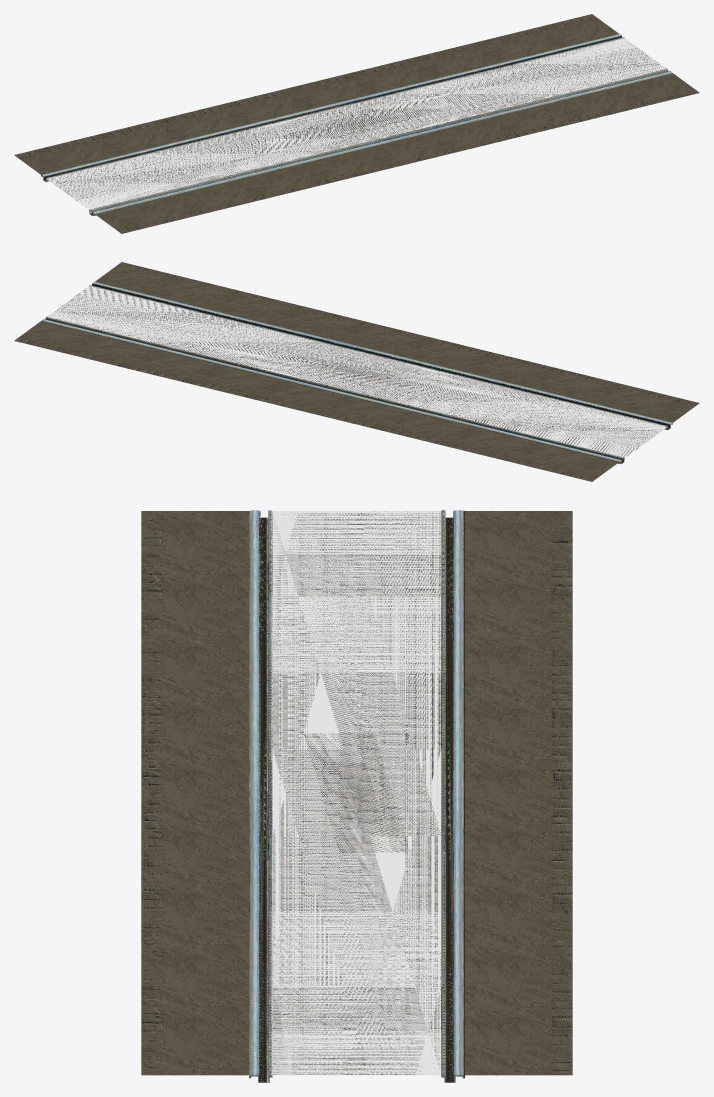
File: RT-Straight.dae
3 renders of one model, top to bottom at view 1: azimuth 30°, elevation 25°; view 2: azimuth 150°, elevation 25°; view 3: azimuth 270°, elevation 25°, orthographic. The views are drawn at different scales.
Visible parts, largest first — view 1: group_0, group_1 (×2), group_3 (×2), group_4, group_2; view 2: group_0, group_1 (×2), group_3 (×2), group_2, group_4; view 3: group_0, group_1 (×2), group_3 (×2), group_2, group_4.
Boxes of the visible parts, x1,y1,x2,y2 form: group_0: [47, 38, 666, 209]; group_1 (×2): [95, 73, 699, 233]; group_3 (×2): [14, 14, 618, 174]; group_4: [89, 68, 672, 215]; group_2: [41, 33, 624, 181]; group_0: [47, 286, 666, 457]; group_1 (×2): [95, 262, 699, 422]; group_3 (×2): [14, 321, 618, 481]; group_2: [41, 316, 624, 463]; group_4: [89, 281, 672, 429]; group_0: [272, 511, 441, 1075]; group_1 (×2): [141, 511, 248, 1075]; group_3 (×2): [465, 511, 572, 1075]; group_2: [441, 510, 464, 1082]; group_4: [249, 510, 272, 1082].
Size of the model in its own units: 137 by 44.28 by 0.8948.
